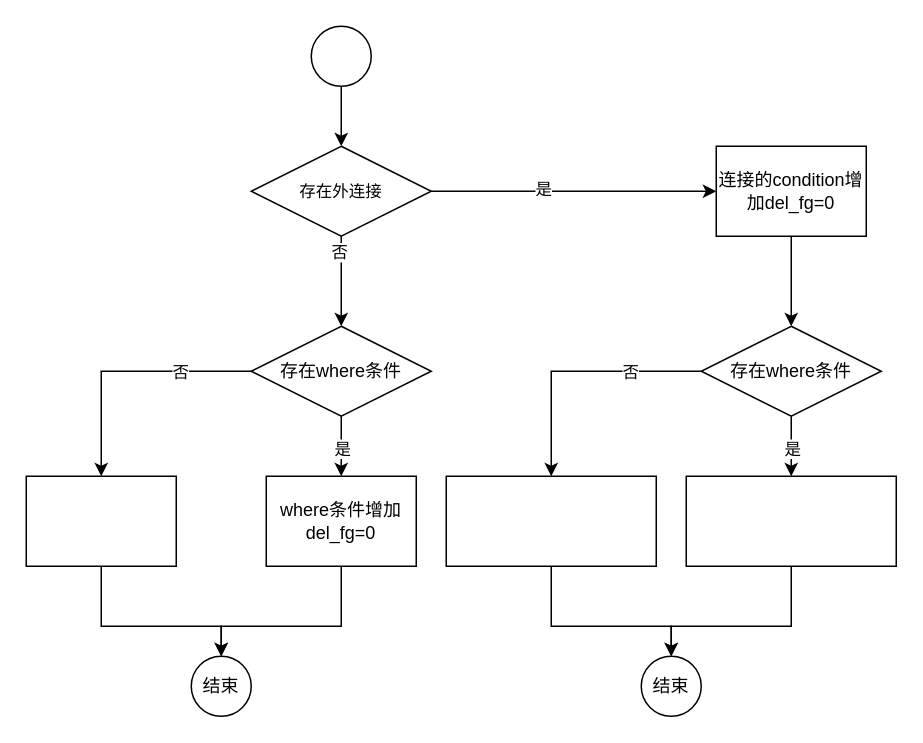
Image size: 923x743. Some labels were removed from this diagram. Each missing label, with the box of its shape:
where条件增加 del_fg=0 or del_fg is null: (685, 475, 896, 566)
增加 del_fg=0 or del_fg is null 作为where条件: (445, 475, 656, 566)
增加 del_fg=0 作为where条件: (25, 475, 176, 566)
开始: (310, 25, 371, 86)
